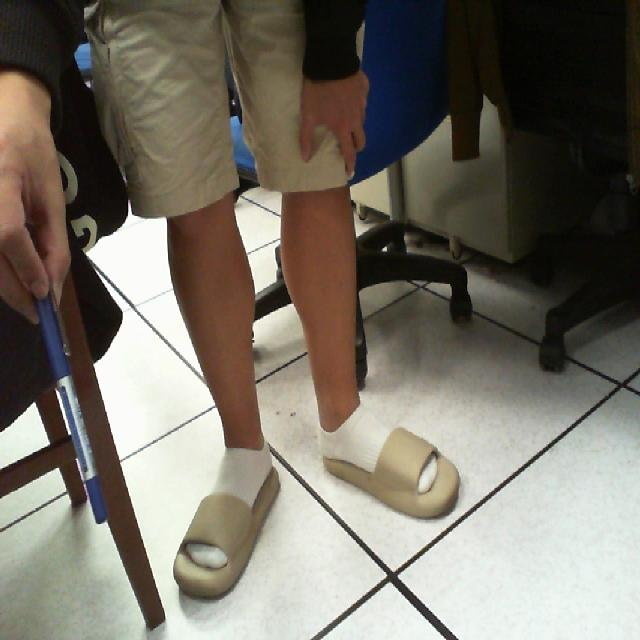Pen: (11, 217, 120, 535)
